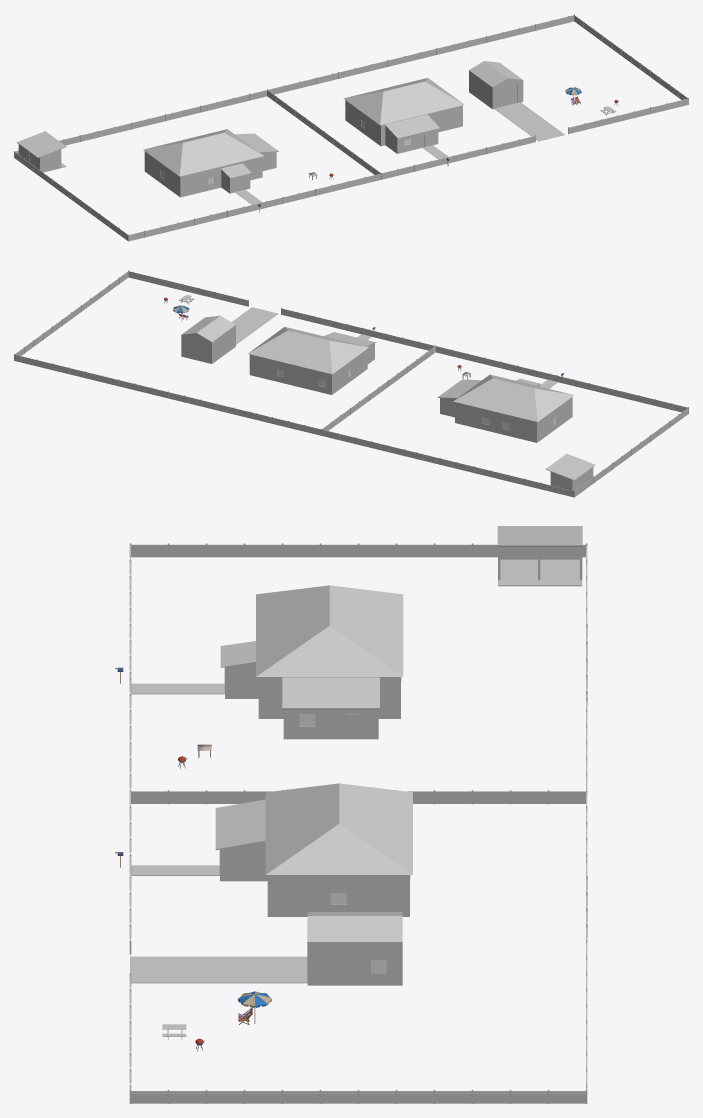
Rendered from HauseHutor06.fbx.
3 renders of one model, top to bottom at view 1: azimuth 30°, elevation 25°; view 2: azimuth 150°, elevation 25°; view 3: azimuth 270°, elevation 25°, orthographic. The views are drawn at different scales.
Parts seen in each view (by area): view 1: Zabor.001, RoofHause.001, RoofHause.002, HauseJ.019, Garaje, HauseJ.018, FermHaus.022, Cube.003, Roof.003, HauseE.001, Hause.001, Roof.001 (+1 smaller); view 2: Zabor.001, RoofHause.001, RoofHause.002, HauseJ.018, HauseJ.019, Garaje, FermHaus.022, Cube.003, Roof.001; view 3: Zabor.001, RoofHause.001, RoofHause.002, Garaje, HauseJ.018, FermHaus.022, Cube.003, Roof.001, HauseE.010, Roof.003, HauseJ.019, HauseE.001 (+3 smaller).
Part boxes in pixels (<box>): Zabor.001: <box>14,14,688,241</box>; RoofHause.001: <box>143,129,263,176</box>; RoofHause.002: <box>343,78,464,125</box>; HauseJ.019: <box>144,151,262,197</box>; Garaje: <box>469,61,523,108</box>; HauseJ.018: <box>345,100,462,145</box>; FermHaus.022: <box>17,131,66,172</box>; Cube.003: <box>494,102,564,141</box>; Roof.003: <box>385,114,439,138</box>; HauseE.001: <box>385,126,438,153</box>; Hause.001: <box>221,170,250,193</box>; Roof.001: <box>235,133,278,152</box>; Zabor.001: <box>14,270,688,497</box>; RoofHause.001: <box>453,374,574,421</box>; RoofHause.002: <box>248,327,368,374</box>; HauseJ.018: <box>249,349,367,394</box>; HauseJ.019: <box>455,397,572,442</box>; Garaje: <box>181,315,235,363</box>; FermHaus.022: <box>545,453,594,490</box>; Cube.003: <box>231,307,278,344</box>; Roof.001: <box>437,379,481,398</box>; Zabor.001: <box>129,543,587,1103</box>; RoofHause.001: <box>256,585,403,676</box>; RoofHause.002: <box>265,783,412,874</box>; Garaje: <box>307,912,402,984</box>; HauseJ.018: <box>267,875,410,916</box>; FermHaus.022: <box>497,526,582,586</box>; Cube.003: <box>130,956,307,983</box>; Roof.001: <box>282,677,379,709</box>; HauseE.010: <box>283,709,378,738</box>; Roof.003: <box>215,799,265,850</box>; HauseJ.019: <box>258,677,401,718</box>; HauseE.001: <box>219,842,267,880</box>.
Size of the model in its own units: 10913 by 701 by 3979.
